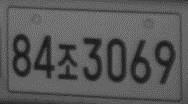0: (106, 38, 126, 82)
3: (81, 36, 102, 82)
4: (33, 34, 55, 79)
6: (130, 38, 151, 85)
8: (10, 32, 32, 78)
9: (151, 39, 176, 85)
조: (56, 42, 78, 82)
